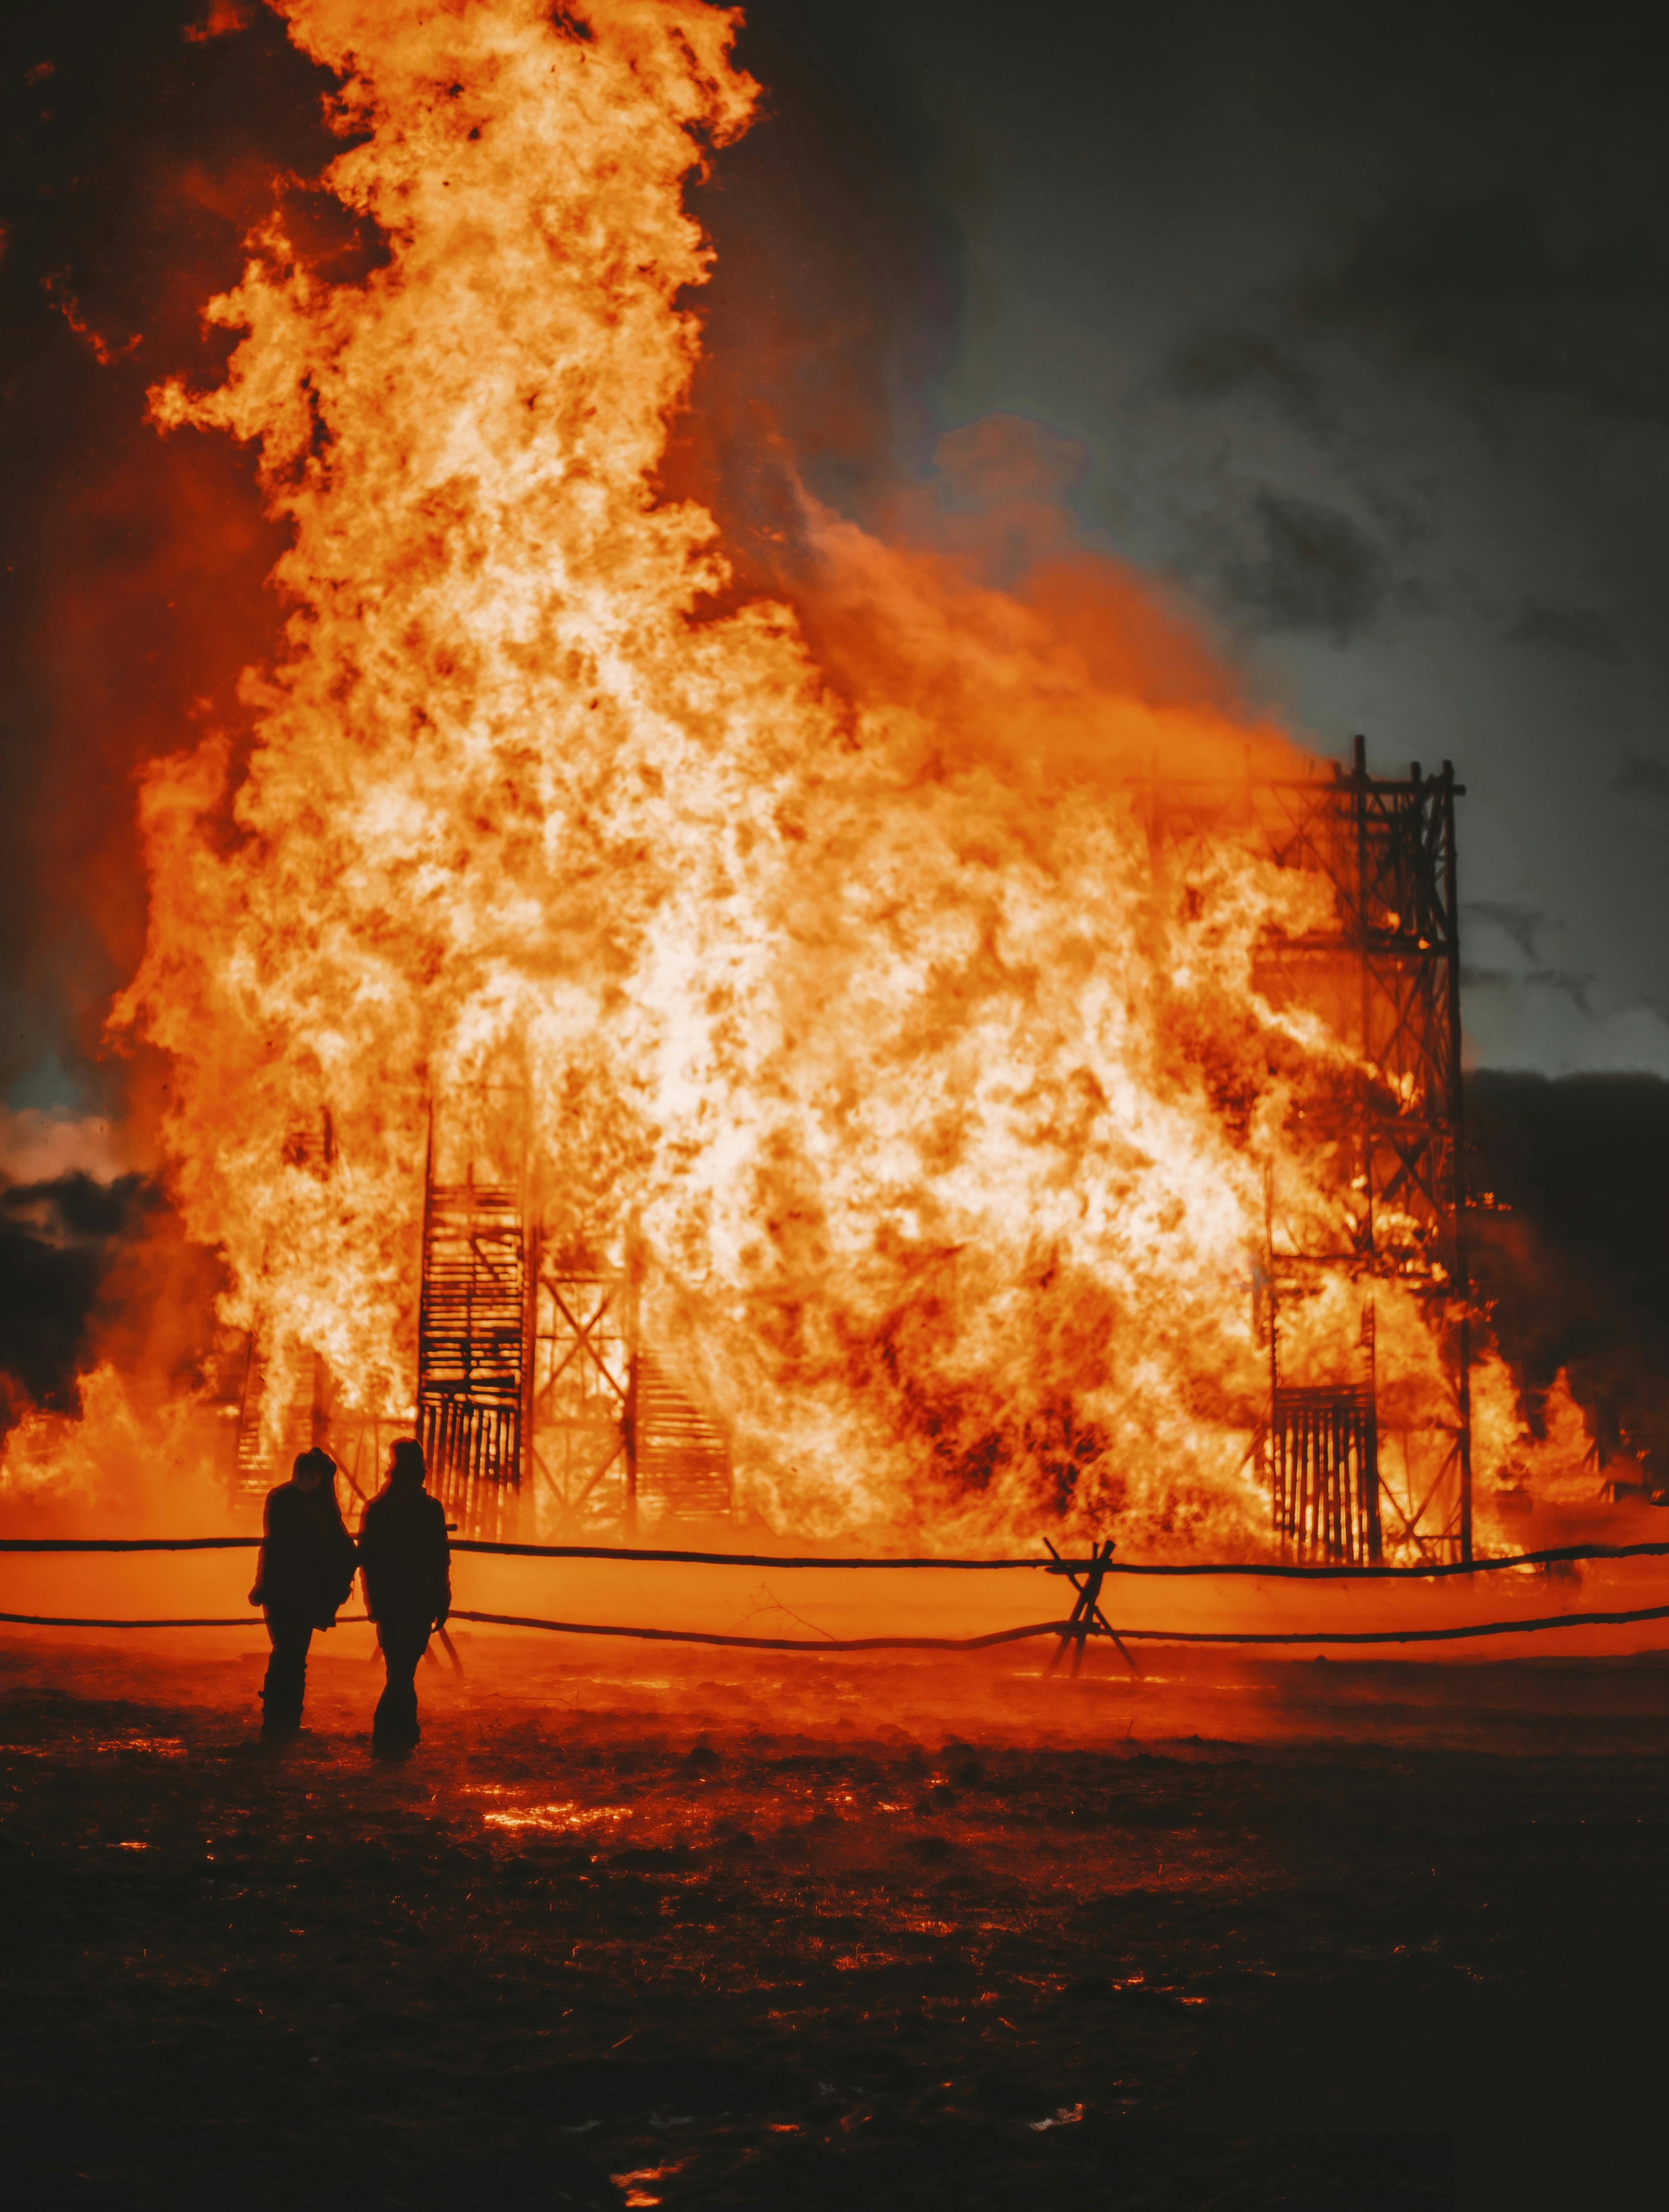Fire: (0, 0, 1182, 1420), (1192, 601, 1669, 1644), (444, 1437, 1168, 1844), (5, 1420, 252, 1684)
